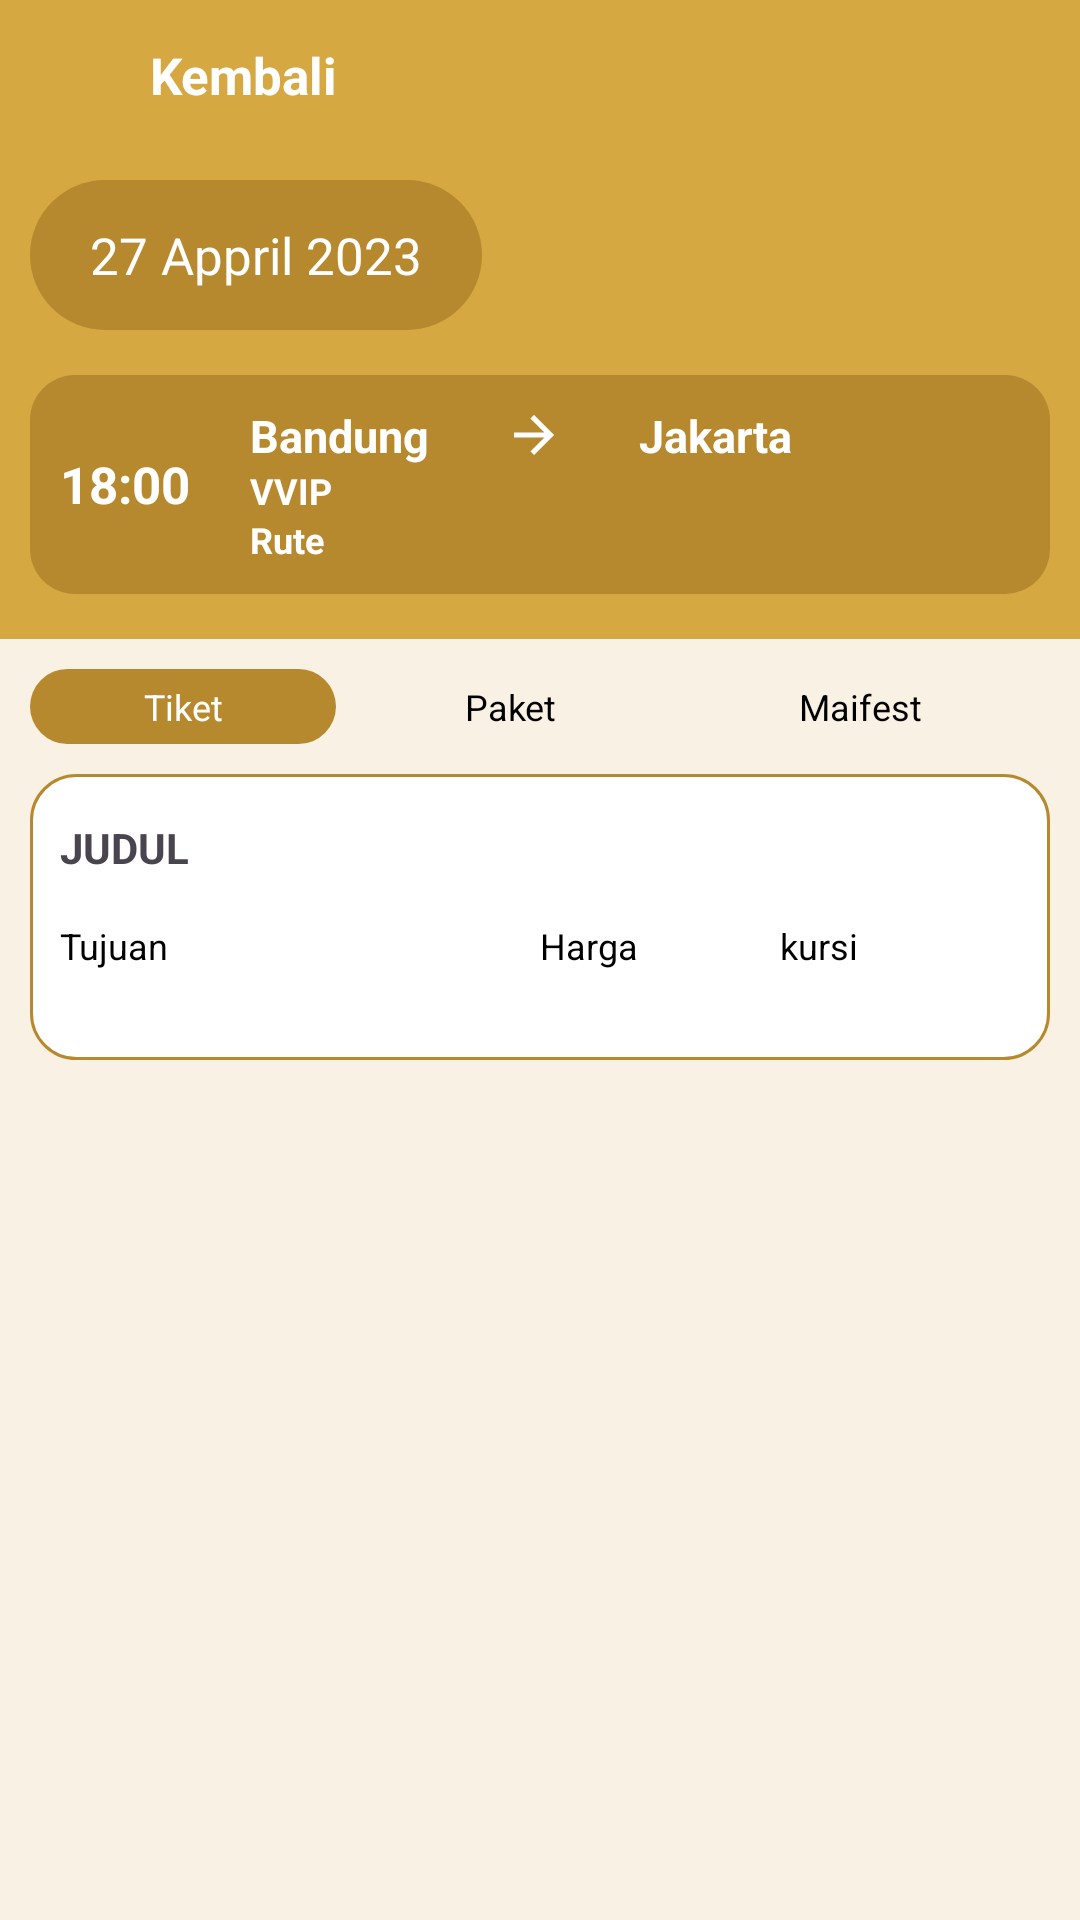

Screen size 1080px x 1920px. Icon name, then its box in pixels as region(x1, y1, x2, y2):
arrow right: region(514, 415, 554, 455)
